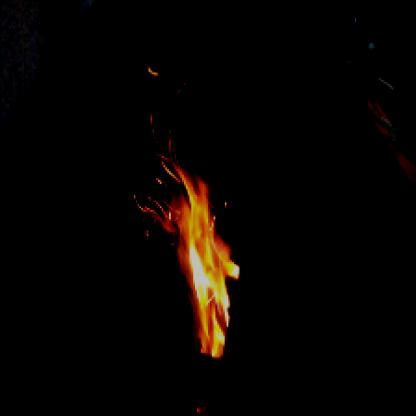Fire: (132, 132, 251, 360)
